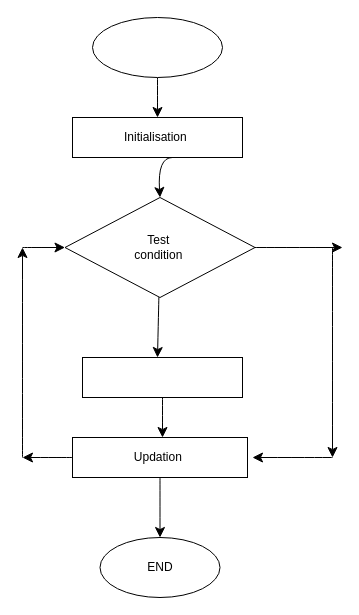
Image size: 359x615. Some labels were removed from this diagram. Each missing label, with the centre of its shape:
"Block of Statement" goes at [162,377].
"start" goes at [157,47].
